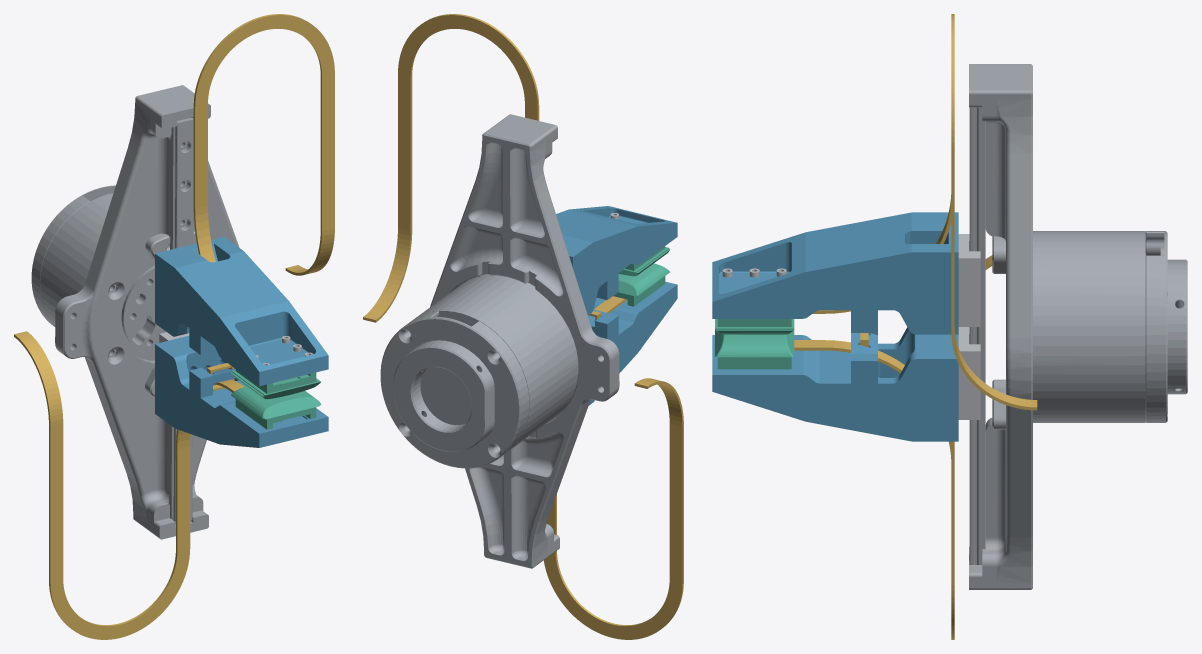
File: assembly_open0.glb
3 views of the same model, side by side, from view 1: azimuth 30°, elevation 25°; view 2: azimuth 150°, elevation 25°; view 3: azimuth 270°, elevation 25° (orthographic). The views are drawn at different scales.
Parts seen in each view (by area): view 1: original_actuator_and_transmission, replacement_finger_2, replacement_finger_1, service_loop_envelope_1, service_loop_envelope_2, M2324_1, M2324_2, moving_harness_envelope_2, moving_harness_envelope_1; view 2: original_actuator_and_transmission, replacement_finger_2, service_loop_envelope_2, service_loop_envelope_1, replacement_finger_1, M2324_1, M2324_2; view 3: original_actuator_and_transmission, replacement_finger_2, replacement_finger_1, M2324_1, service_loop_envelope_2, retained_carrier_2, retained_carrier_1, M2324_2, moving_harness_envelope_1, service_loop_envelope_1.
Boxes of the visible parts, x1,y1,x2,y2 form: original_actuator_and_transmission: (31, 85, 239, 539); replacement_finger_2: (155, 237, 328, 386); replacement_finger_1: (155, 336, 328, 447); service_loop_envelope_1: (14, 331, 190, 639); service_loop_envelope_2: (193, 14, 334, 275); M2324_1: (231, 386, 321, 429); M2324_2: (231, 369, 320, 399); moving_harness_envelope_2: (193, 205, 215, 262); moving_harness_envelope_1: (176, 379, 244, 449); original_actuator_and_transmission: (380, 114, 619, 568); replacement_finger_2: (556, 206, 677, 315); service_loop_envelope_2: (363, 14, 539, 322); service_loop_envelope_1: (544, 378, 683, 639); replacement_finger_1: (588, 281, 677, 405); M2324_1: (613, 263, 669, 306); M2324_2: (618, 246, 670, 276); original_actuator_and_transmission: (969, 64, 1187, 589); replacement_finger_2: (712, 212, 958, 334); replacement_finger_1: (712, 327, 958, 441); M2324_1: (715, 329, 794, 369); service_loop_envelope_2: (951, 14, 1037, 410); retained_carrier_2: (958, 234, 980, 326); retained_carrier_1: (958, 327, 980, 419); M2324_2: (715, 319, 794, 334); moving_harness_envelope_1: (794, 340, 954, 464); service_loop_envelope_1: (951, 255, 992, 639).
Bounding box in the file's own units: 0.1152 × 0.2266 × 0.1412.
